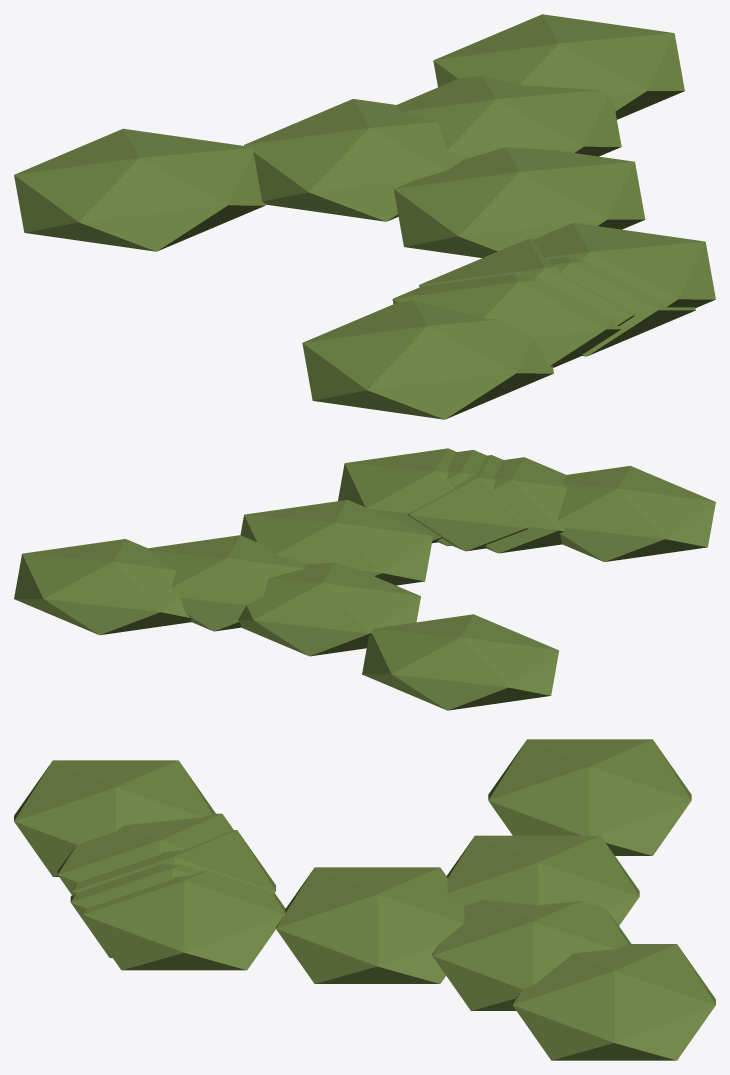
File: Moss_Patch.glb
3 views of the same model, one above another, from view 1: azimuth 30°, elevation 25°; view 2: azimuth 150°, elevation 25°; view 3: azimuth 270°, elevation 25° (orthographic). The views are drawn at different scales.
Visible parts, largest first — view 1: Moss_Patch; view 2: Moss_Patch; view 3: Moss_Patch.
Part boxes in pixels (bbox=[...]): Moss_Patch: bbox=[14, 14, 715, 419]; Moss_Patch: bbox=[14, 448, 715, 710]; Moss_Patch: bbox=[14, 739, 715, 1060].
Size of the model in its own units: 1.18 by 0.11 by 1.11.
